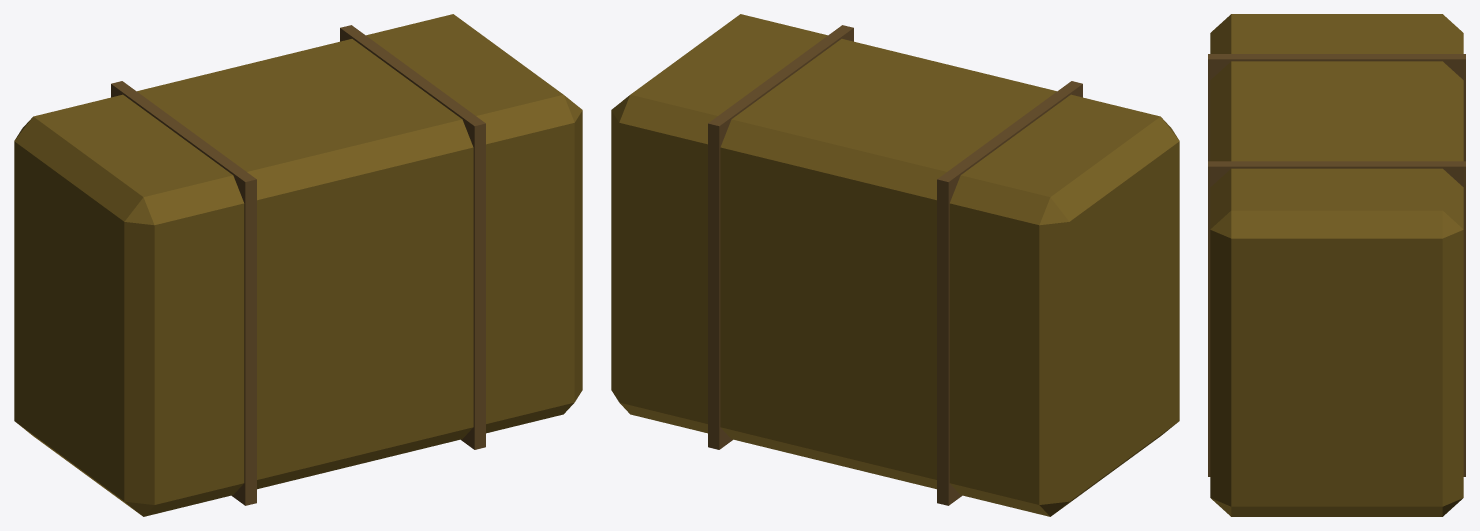
The model's file is Hay Bale.obj.
The picture shows the model from 3 angles, left to right: view 1: azimuth 30°, elevation 25°; view 2: azimuth 150°, elevation 25°; view 3: azimuth 270°, elevation 25°; orthographic projection. The views are drawn at different scales.
Visible parts, largest first — view 1: Straw, Rope; view 2: Straw, Rope; view 3: Straw, Rope.
Part boxes in pixels (x1,y1,x2,y2): Straw: (14,14,582,516); Rope: (111,25,485,505); Straw: (611,14,1179,516); Rope: (708,25,1082,505); Straw: (1210,14,1463,516); Rope: (1208,54,1465,476).
Bounding box in the file's own units: 1.2 × 0.81 × 0.61.
